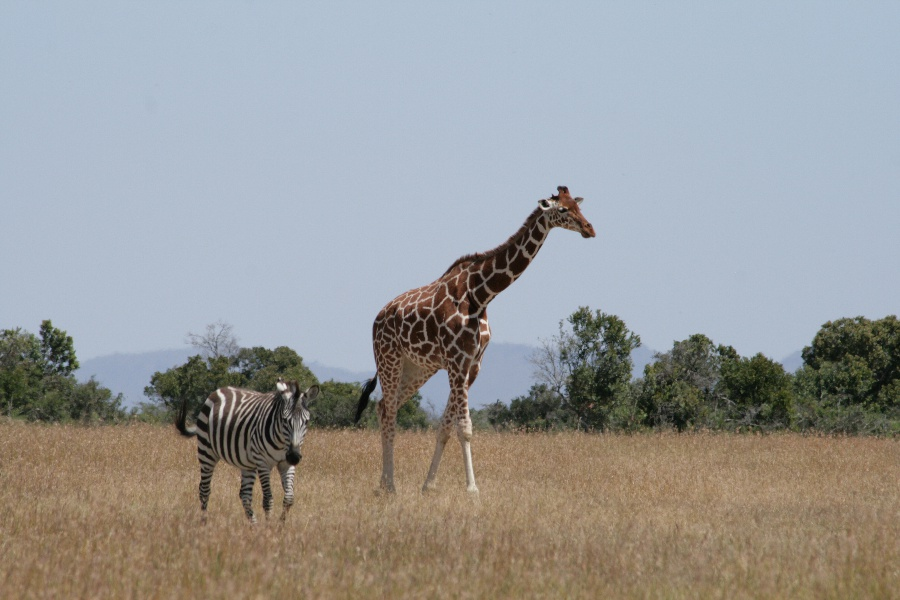giraffe: (356, 178, 601, 505)
